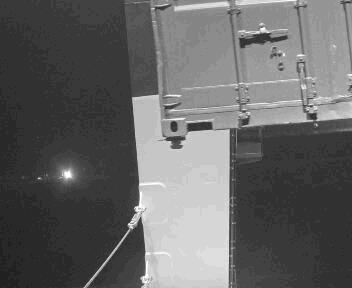twist_lock_1: (164, 132, 188, 153)
